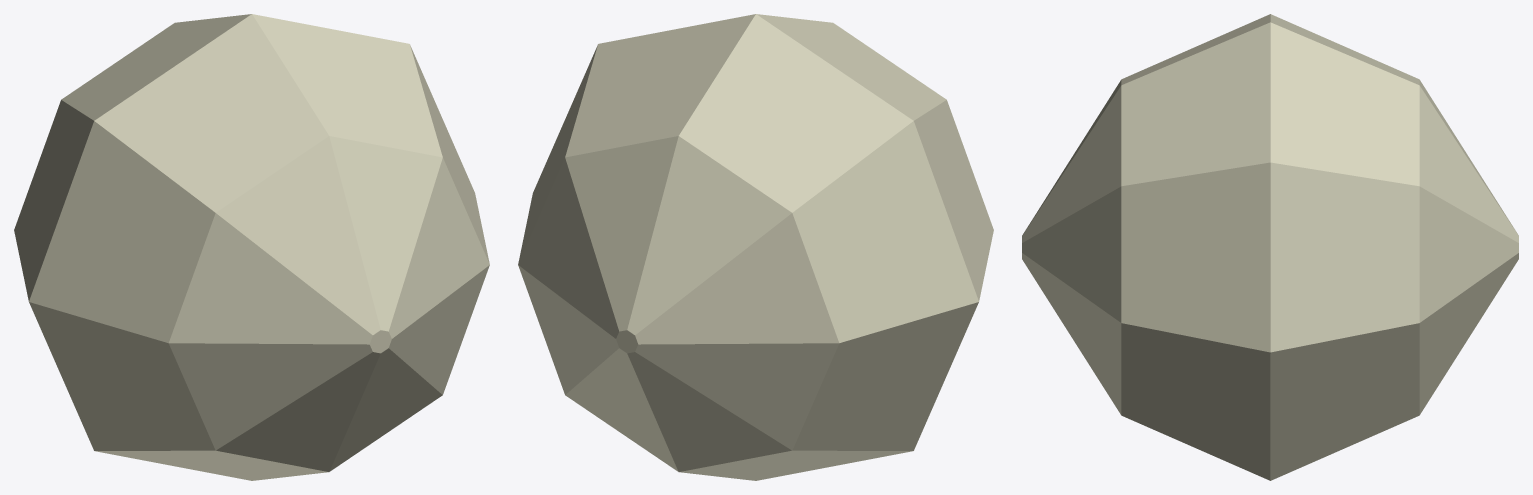
Rendered from Droplet.fbx.
3 renders of one model, left to right at view 1: azimuth 30°, elevation 25°; view 2: azimuth 150°, elevation 25°; view 3: azimuth 270°, elevation 25°, orthographic. The views are drawn at different scales.
Parts seen in each view (by area): view 1: BrushingDroplet; view 2: BrushingDroplet; view 3: BrushingDroplet.
Part boxes in pixels (bbox=[...]): BrushingDroplet: bbox=[14, 14, 489, 480]; BrushingDroplet: bbox=[518, 14, 993, 480]; BrushingDroplet: bbox=[1022, 14, 1518, 480].
Bounding box in the file's own units: 1 × 1 × 1.
